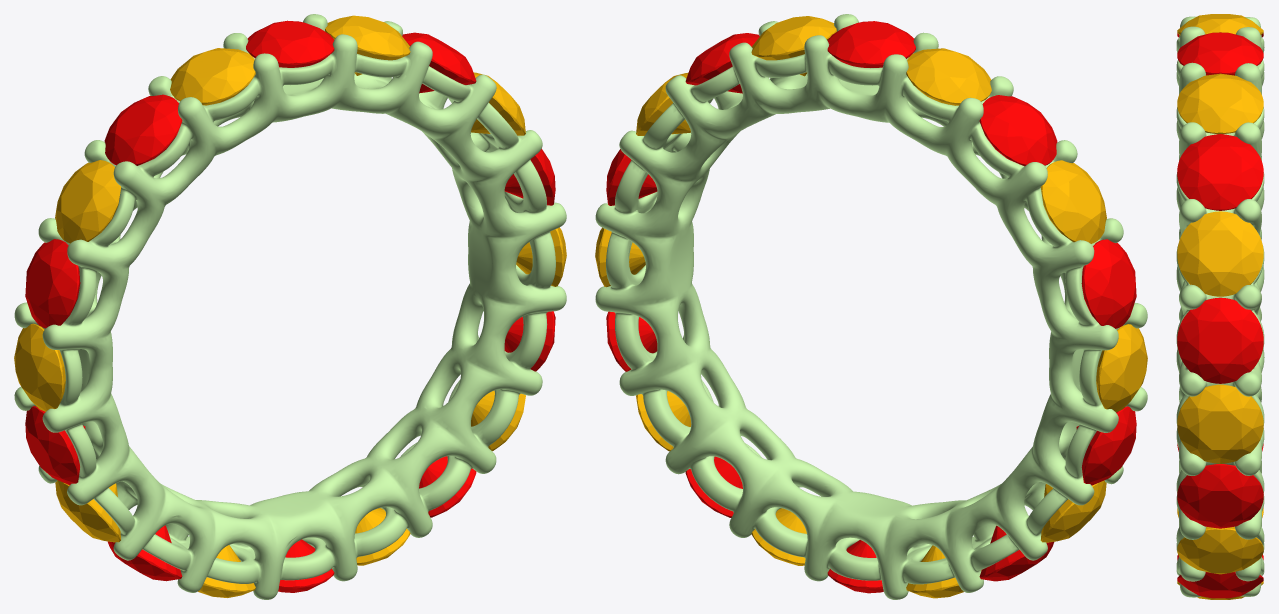
File: TCC-RN-CR-32186-Round-Eternity-15.glb
The picture shows the model from 3 angles, left to right: view 1: azimuth 30°, elevation 25°; view 2: azimuth 150°, elevation 25°; view 3: azimuth 270°, elevation 25°; orthographic projection. The views are drawn at different scales.
Visible parts, largest first — view 1: Metal03, Diamond Band02.001, Diamond Band01.001, Diamond Band01.002, Diamond Band02, Diamond Band02.002, Diamond Band01, Diamond Band01.003, Diamond Band02.009, Diamond Band02.003, Diamond Band01.009, Diamond Band01.004 (+9 smaller); view 2: Metal03, Diamond Band02.001, Diamond Band01.001, Diamond Band01.002, Diamond Band02, Diamond Band02.002, Diamond Band01, Diamond Band01.003, Diamond Band02.009, Diamond Band02.003, Diamond Band01.009, Diamond Band01.004 (+9 smaller); view 3: Metal03, Diamond Band01.008, Diamond Band02.008, Diamond Band02.007, Diamond Band01.009, Diamond Band01.007, Diamond Band02.009, Diamond Band02.006, Diamond Band01, Diamond Band01.006, Diamond Band02.
Boxes of the visible parts, x1,y1,x2,y2 form: Metal03: (14, 14, 566, 599); Diamond Band02.001: (55, 160, 121, 243); Diamond Band01.001: (104, 94, 182, 165); Diamond Band01.002: (25, 239, 80, 328); Diamond Band02: (170, 48, 255, 105); Diamond Band02.002: (14, 323, 65, 411); Diamond Band01: (246, 20, 334, 67); Diamond Band01.003: (25, 406, 85, 485); Diamond Band02.009: (325, 15, 410, 75); Diamond Band02.003: (55, 480, 120, 542); Diamond Band01.009: (402, 32, 476, 93); Diamond Band01.004: (107, 525, 182, 581); Metal03: (595, 14, 1147, 599); Diamond Band02.001: (1040, 160, 1106, 243); Diamond Band01.001: (979, 95, 1057, 166); Diamond Band01.002: (1081, 239, 1136, 328); Diamond Band02: (906, 48, 991, 105); Diamond Band02.002: (1096, 324, 1147, 411); Diamond Band01: (827, 21, 915, 67); Diamond Band01.003: (1076, 406, 1136, 485); Diamond Band02.009: (751, 16, 836, 76); Diamond Band02.003: (1040, 480, 1106, 542); Diamond Band01.009: (685, 33, 759, 93); Diamond Band01.004: (979, 525, 1054, 581); Metal03: (1176, 16, 1264, 597); Diamond Band01.008: (1177, 297, 1263, 383); Diamond Band02.008: (1177, 211, 1263, 296); Diamond Band02.007: (1177, 384, 1263, 463); Diamond Band01.009: (1177, 134, 1263, 210); Diamond Band01.007: (1177, 464, 1263, 528); Diamond Band02.009: (1177, 73, 1263, 134); Diamond Band02.006: (1177, 527, 1263, 574); Diamond Band01: (1177, 32, 1263, 75); Diamond Band01.006: (1177, 572, 1263, 598); Diamond Band02: (1177, 14, 1263, 35).
Size of the model in its own units: 24.01 by 24.01 by 3.61.
